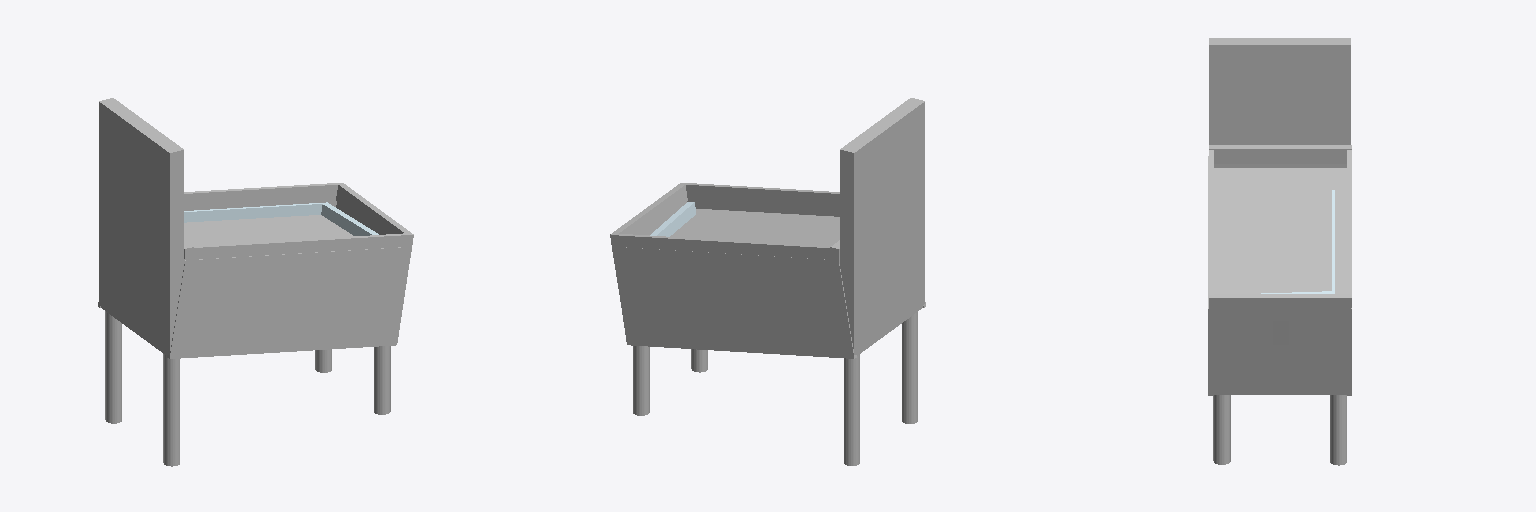
File: pinball.obj
3 views of the same model, side by side, from view 1: azimuth 30°, elevation 25°; view 2: azimuth 150°, elevation 25°; view 3: azimuth 270°, elevation 25° (orthographic).
Parts seen in each view (by area): view 1: Cube.002, Cube.008, Plane, Cube, Cube.001, Cylinder.002, Cylinder.003, Cube.007, Cube.004, Cylinder.001, Cube.006, Cube.003; view 2: Cube.003, Cube.008, Plane, Cube.001, Cube, Cylinder.003, Cylinder.002, Cube.002, Cube.004, Cylinder, Cube.006; view 3: Plane, Cube.008, Cube.005, Cube.009, Cube.004, Cylinder.001, Cylinder, Cube.001, Cube.
Boxes of the visible parts, <box> form: Cube.002: <box>167,247,411,358</box>; Cube.008: <box>99,98,183,355</box>; Plane: <box>184,215,352,245</box>; Cube: <box>193,233,412,259</box>; Cube.001: <box>184,183,337,206</box>; Cylinder.002: <box>163,354,179,466</box>; Cylinder.003: <box>105,311,121,423</box>; Cube.007: <box>184,202,328,222</box>; Cube.004: <box>336,183,413,246</box>; Cylinder.001: <box>374,346,390,414</box>; Cube.006: <box>321,204,378,235</box>; Cube.003: <box>98,198,336,307</box>; Cube.003: <box>612,247,856,358</box>; Cube.008: <box>840,98,924,355</box>; Plane: <box>670,209,839,245</box>; Cube.001: <box>610,234,830,259</box>; Cube: <box>684,183,839,206</box>; Cylinder.003: <box>844,354,859,465</box>; Cylinder.002: <box>902,312,917,423</box>; Cube.002: <box>687,198,925,307</box>; Cube.004: <box>610,183,687,234</box>; Cylinder: <box>633,346,649,415</box>; Cube.006: <box>650,202,695,236</box>; Plane: <box>1214,168,1346,293</box>; Cube.008: <box>1209,38,1350,167</box>; Cube.005: <box>1209,312,1350,394</box>; Cube.009: <box>1209,145,1351,163</box>; Cube.004: <box>1209,294,1350,311</box>; Cylinder.001: <box>1213,395,1230,464</box>; Cylinder: <box>1330,395,1346,465</box>; Cube.001: <box>1347,150,1351,307</box>; Cube: <box>1209,150,1213,294</box>.
Bounding box in the file's own units: 50.25 × 62.22 × 25.52.